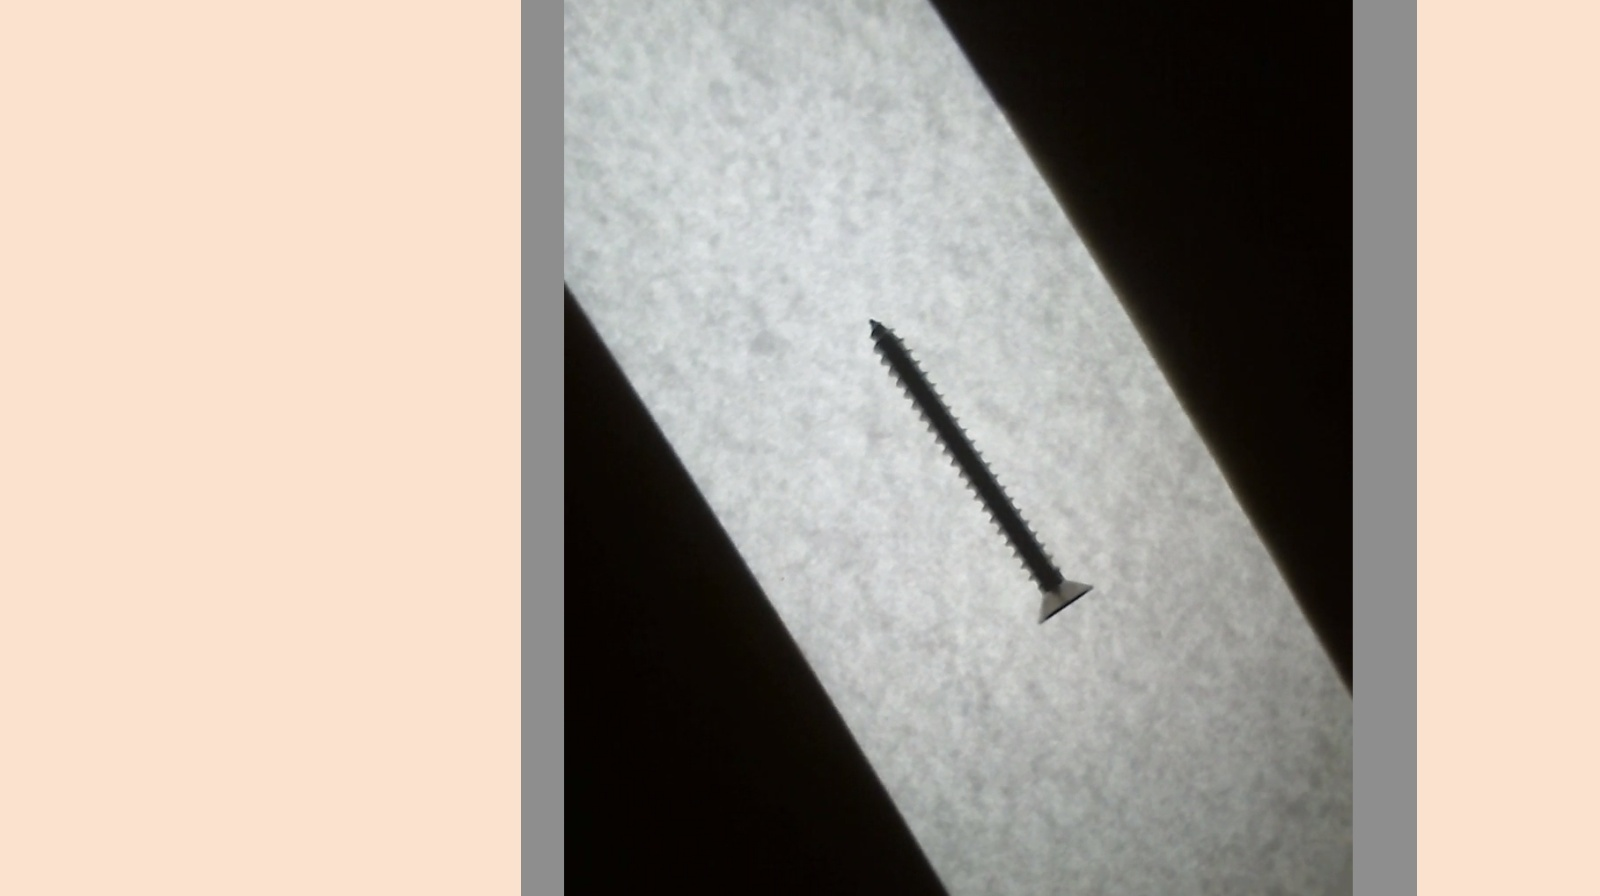S002: (859, 311, 1097, 628)
